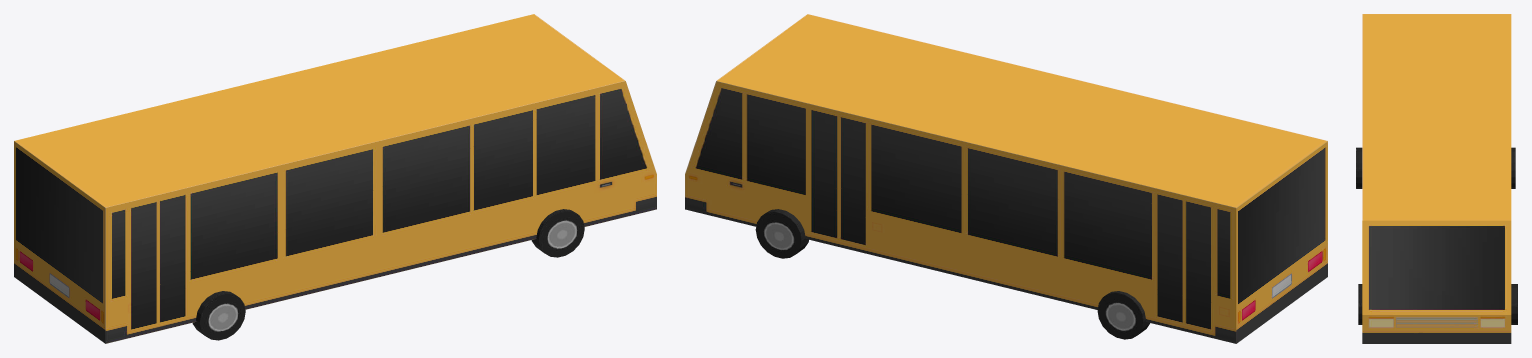
The model's file is bus.fbx.
3 views of the same model, side by side, from view 1: azimuth 30°, elevation 25°; view 2: azimuth 150°, elevation 25°; view 3: azimuth 270°, elevation 25° (orthographic). The views are drawn at different scales.
Parts seen in each view (by area): view 1: Car_10; view 2: Car_10; view 3: Car_10.
Part boxes in pixels (x1,y1,x2,y2): Car_10: [14, 14, 656, 343]; Car_10: [685, 14, 1327, 343]; Car_10: [1356, 14, 1517, 343].
Bounding box in the file's own units: 181 × 49.35 × 56.34.
